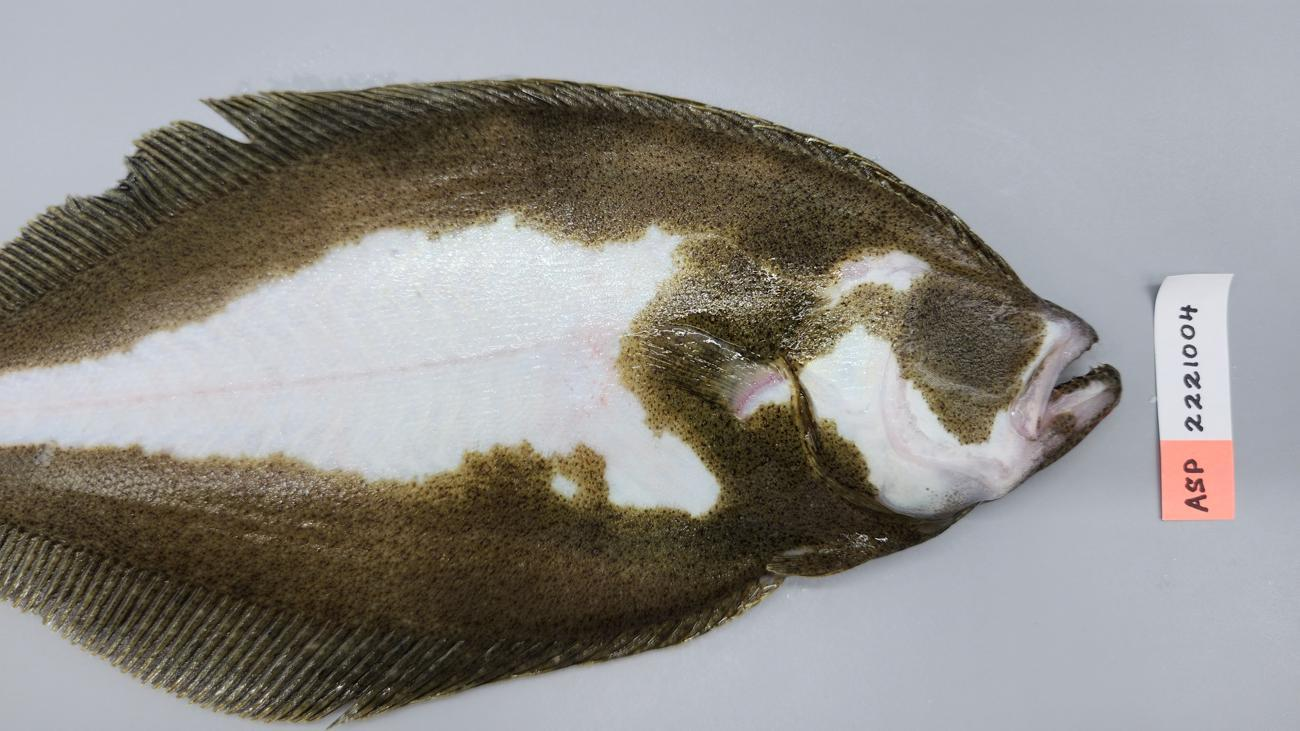SPDYH: (434, 565, 763, 638)
